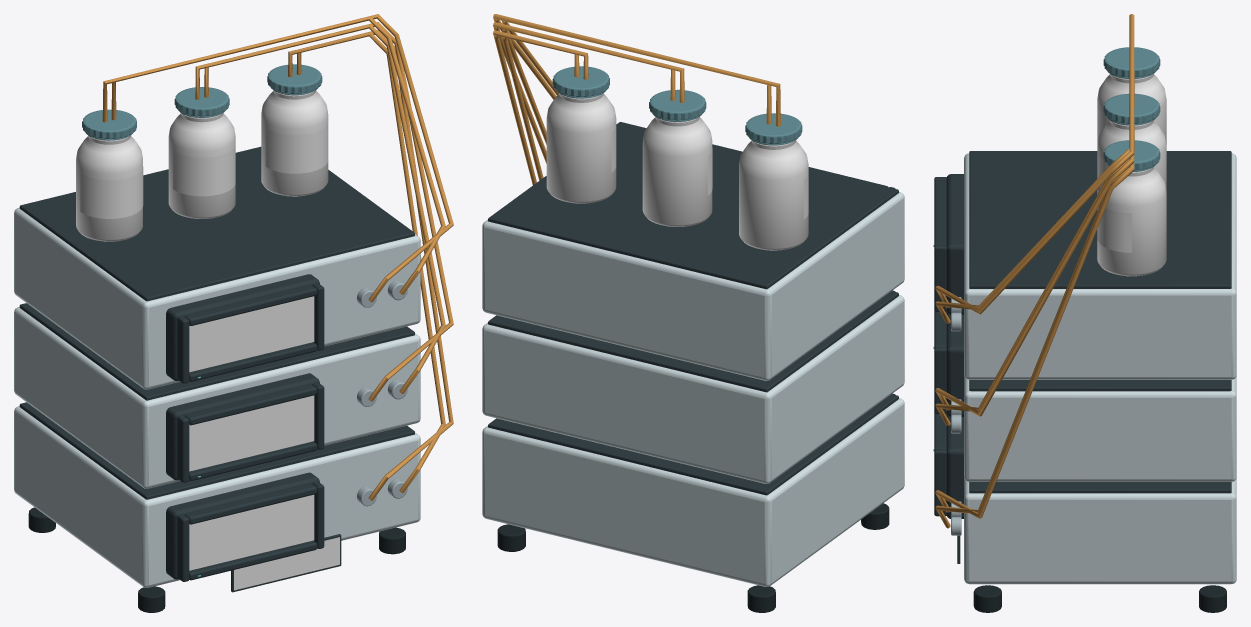
Rendered from ID_ChromatographyStack.fbx.
3 views of the same model, side by side, from view 1: azimuth 30°, elevation 25°; view 2: azimuth 150°, elevation 25°; view 3: azimuth 270°, elevation 25° (orthographic). The views are drawn at different scales.
Parts seen in each view (by area): view 1: ID_ChromatographyStack; view 2: ID_ChromatographyStack; view 3: ID_ChromatographyStack.
Boxes of the visible parts, left/top/right/bottom form: ID_ChromatographyStack: left=14, top=14, right=453, bottom=612; ID_ChromatographyStack: left=482, top=14, right=904, bottom=612; ID_ChromatographyStack: left=933, top=14, right=1236, bottom=612.
Size of the model in its own units: 73.79 by 102 by 57.9.
